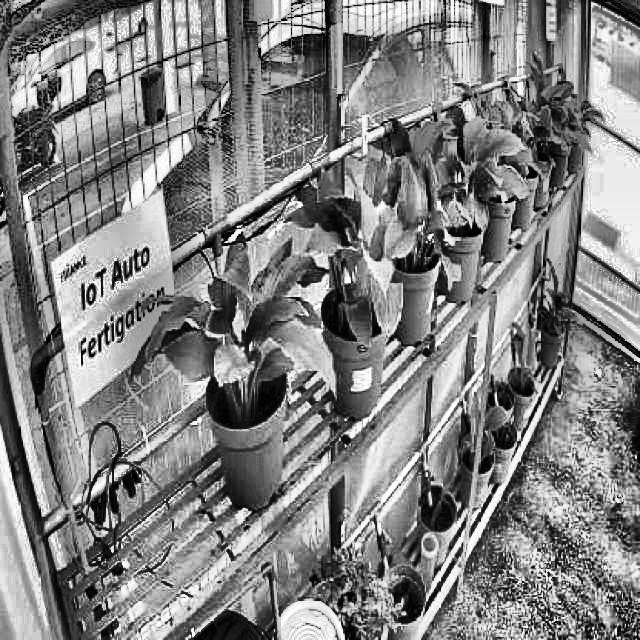plants: (130, 230, 336, 415), (298, 188, 411, 354), (404, 104, 533, 241), (363, 134, 462, 300)
